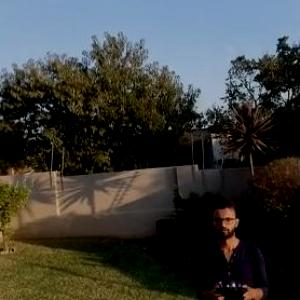follow: (192, 195, 274, 299)
